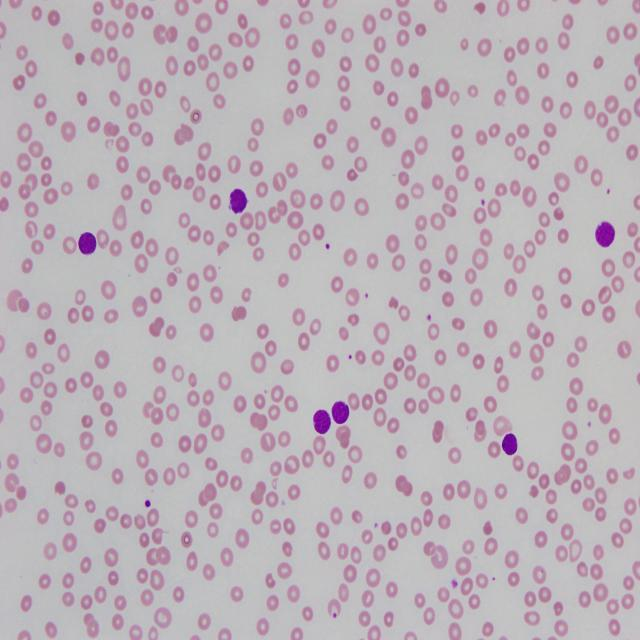cell: (595, 222, 615, 247), (78, 232, 96, 255), (314, 410, 331, 433), (331, 402, 349, 423), (502, 433, 518, 455)
